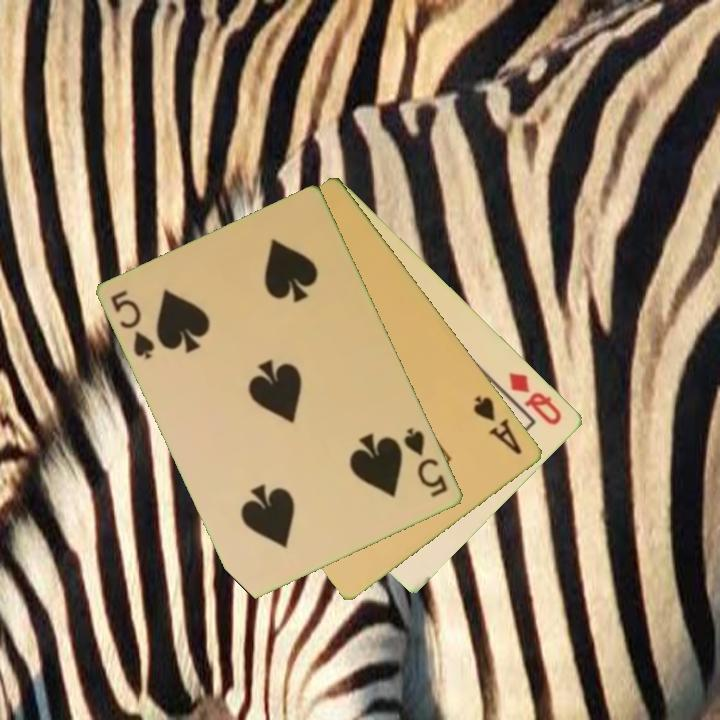5s: (400, 424, 452, 501), (107, 286, 159, 363)
As: (470, 391, 526, 458)
Qd: (505, 368, 565, 429)
